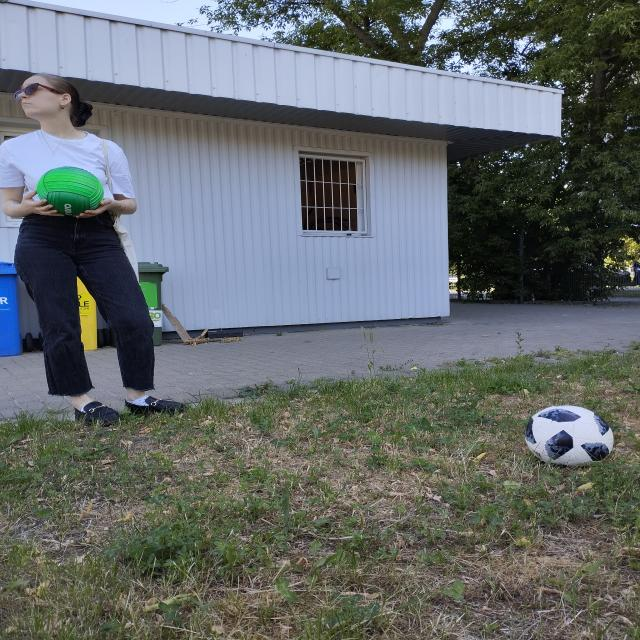nozna: (526, 405, 614, 465)
zielona: (37, 166, 103, 215)
